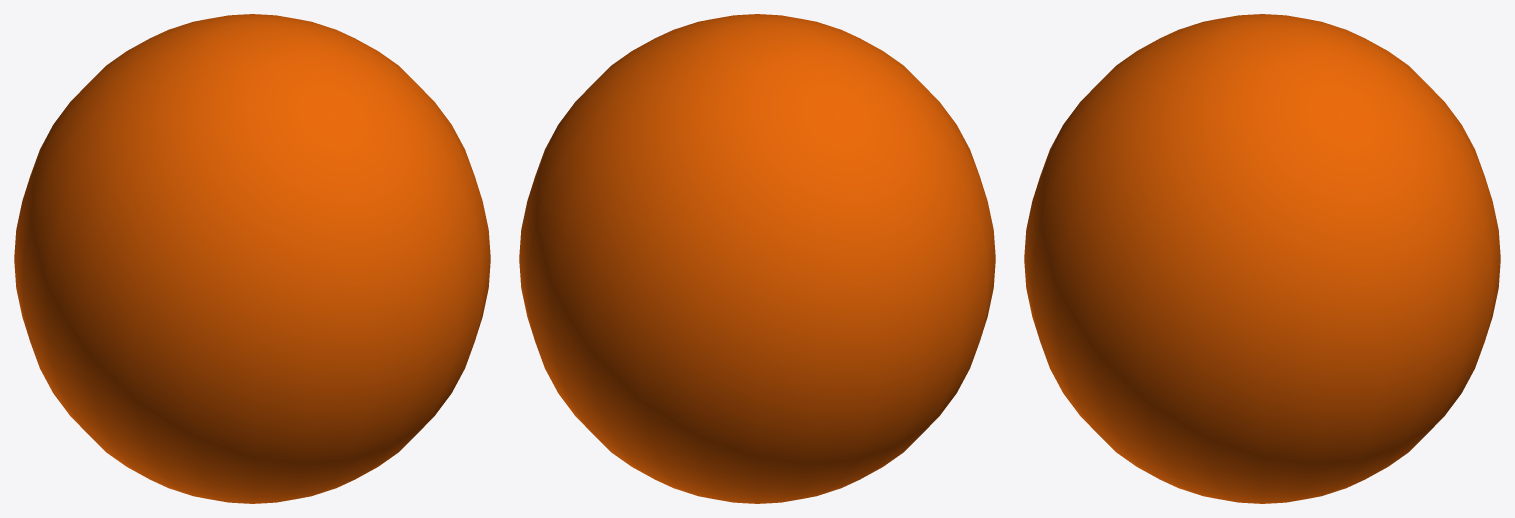
The model's file is FountainOrb.fbx.
3 renders of one model, left to right at view 1: azimuth 30°, elevation 25°; view 2: azimuth 150°, elevation 25°; view 3: azimuth 270°, elevation 25°, orthographic.
Visible parts, largest first — view 1: CentrePieceSphere; view 2: CentrePieceSphere; view 3: CentrePieceSphere.
Boxes of the visible parts, left/top/right/bottom form: CentrePieceSphere: left=14, top=14, right=490, bottom=503; CentrePieceSphere: left=519, top=14, right=995, bottom=503; CentrePieceSphere: left=1024, top=14, right=1500, bottom=503.
Size of the model in its own units: 1.43 by 1.43 by 1.48.
